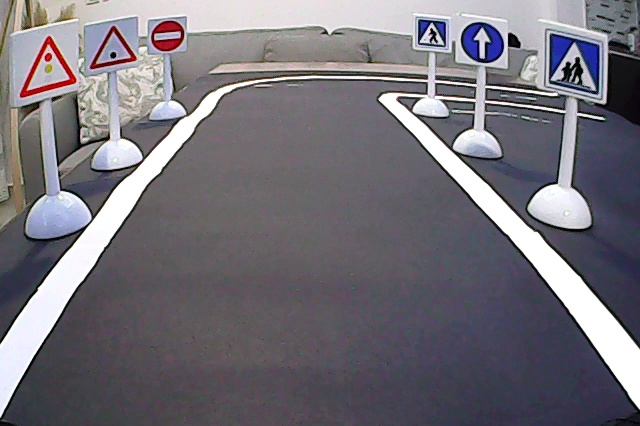do not enter: (147, 20, 189, 54)
green light: (90, 24, 136, 73)
pedestrian crossing: (413, 15, 449, 53)
red light: (14, 34, 85, 98)
school crossing: (543, 25, 606, 99)
